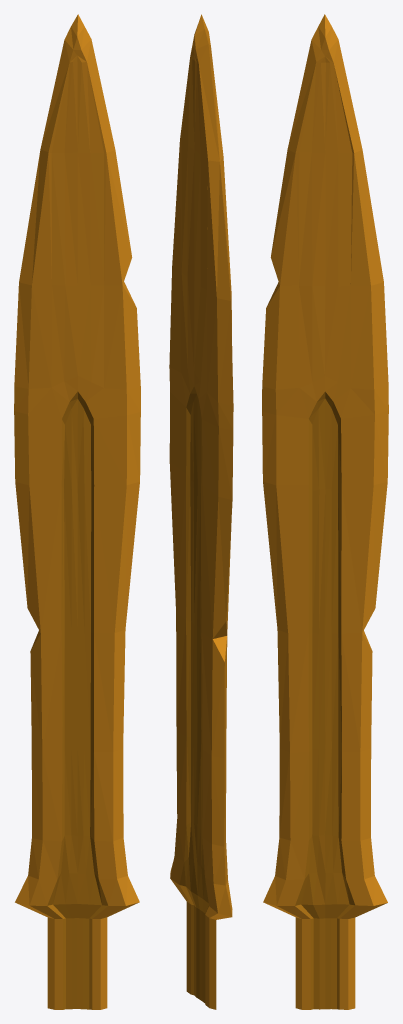
File: SFFA_Blade_Gold_004.fbx
3 views of the same model, side by side, from view 1: azimuth 90°, elevation 25°; view 2: azimuth 210°, elevation 25°; view 3: azimuth 270°, elevation 25° (orthographic).
Visible parts, largest first — view 1: SFFA_Blade_Gold_004; view 2: SFFA_Blade_Gold_004; view 3: SFFA_Blade_Gold_004.
Boxes of the visible parts, box(x1,y1,x2,y2) form: SFFA_Blade_Gold_004: box(14, 14, 140, 1009); SFFA_Blade_Gold_004: box(169, 14, 233, 1009); SFFA_Blade_Gold_004: box(262, 14, 388, 1009).
Bounding box in the file's own units: 1.42 × 85.91 × 9.92.
